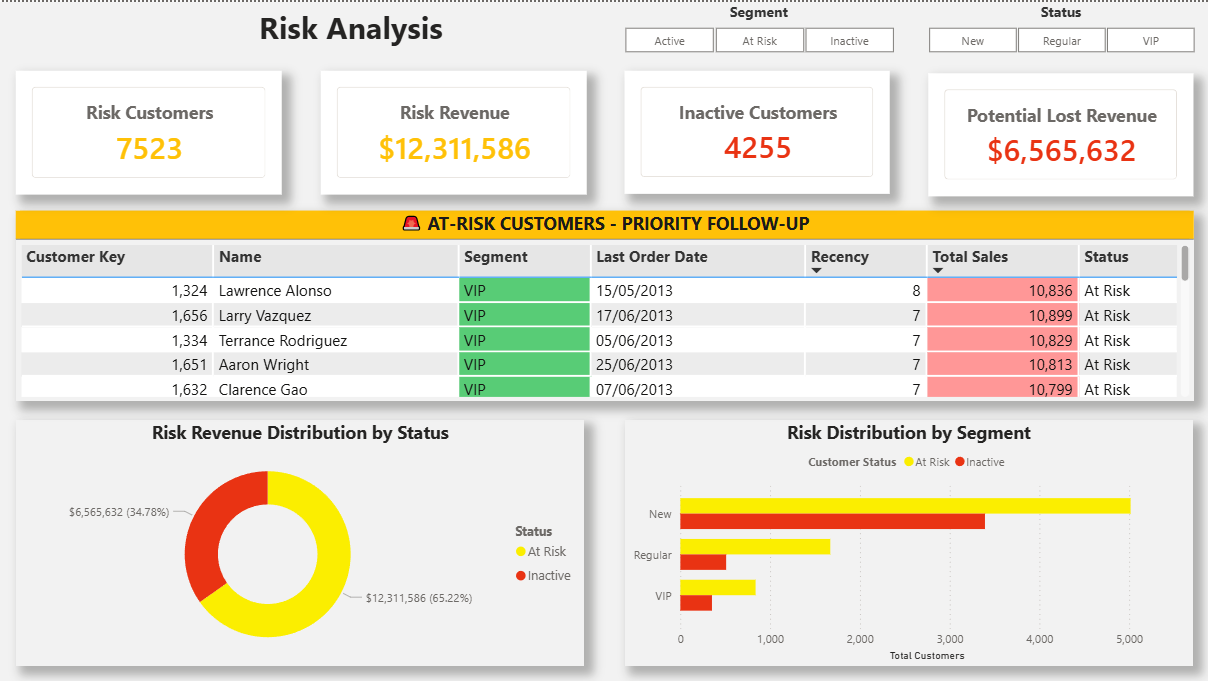

The page's visual inventory and layout, read from the dashboard file:
{"tool":"powerbi","page":{"name":"Risk Analysis","canvas":[1280,720],"ordinal":2},"visuals":[{"type":"textbox","box":[48.1,0,647.8,60.5],"z":0},{"type":"slicer","title":"Segment","fields":{"Values":["report_customers.user_status"]},"box":[640.7,0,322.1,55.2],"z":1000},{"type":"slicer","title":"Status","fields":{"Values":["report_customers.customer_segment"]},"box":[961,0,319,55],"z":2000},{"type":"tableEx","title":"🚨 AT-RISK CUSTOMERS - PRIORITY FOLLOW-UP","fields":{"Values":["report_customers.customer_key","report_customers.customer_name","report_customers.customer_segment","report_customers.last_order_date","report_customers.recency","report_customers.total_sales","report_customers.user_status"]},"box":[20,220,1240.3,200],"z":3000},{"type":"clusteredBarChart","title":"Risk Distribution by Segment","fields":{"Category":["report_customers.customer_segment"],"Y":["Measures (3).Total Customers"],"Series":["report_customers.user_status"]},"box":[660.8,439.9,598.8,259.2],"z":4000},{"type":"cardVisual","fields":{"Data":["Measures (3).Risk Customers"]},"box":[20.1,73,280,130],"z":5000},{"type":"cardVisual","fields":{"Data":["Measures (3).Risk Revenue"]},"box":[340.4,73,280,130],"z":6000},{"type":"cardVisual","fields":{"Data":["Measures (3).Inactive Customers"]},"box":[660.7,73,279.3,129.6],"z":7000},{"type":"cardVisual","fields":{"Data":["Measures (3).Potential Lost Revenue"]},"box":[980.3,74.8,279.3,129.6],"z":8000},{"type":"donutChart","title":"Risk Revenue Distribution by Status","fields":{"Category":["report_customers.user_status"],"Y":["Divide(Measures (3).Total Sales, ScopedEval(Measures (3).Total Sales, []))"]},"box":[20.1,439.9,598.8,259.2],"z":9000}]}

Visuals, with their boxes in screenshot pixels (x1, y1, x2, y2), scaled from the page's 1280x720 canvas onto the 1208x681 screenshot:
textbox: select_region(45, 0, 657, 57)
"Segment" slicer: select_region(605, 0, 909, 52)
"Status" slicer: select_region(907, 0, 1207, 52)
"🚨 AT-RISK CUSTOMERS - PRIORITY FOLLOW-UP" tableEx: select_region(19, 208, 1189, 397)
"Risk Distribution by Segment" clusteredBarChart: select_region(624, 416, 1189, 661)
cardVisual - Measures (3).Risk Customers: select_region(19, 69, 283, 192)
cardVisual - Measures (3).Risk Revenue: select_region(321, 69, 586, 192)
cardVisual - Measures (3).Inactive Customers: select_region(624, 69, 887, 192)
cardVisual - Measures (3).Potential Lost Revenue: select_region(925, 71, 1189, 193)
"Risk Revenue Distribution by Status" donutChart: select_region(19, 416, 584, 661)
